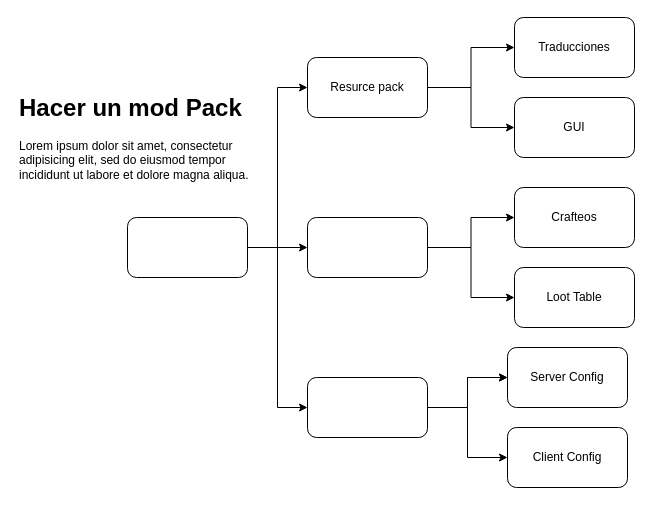
Some shapes in this 652 by 505 pixel diagram are drawn without their labels. Each missing label, with the box of its shape:
Crafter Modpack: (126, 216, 248, 278)
Data pack: (306, 216, 428, 278)
Mods: (306, 376, 428, 438)
